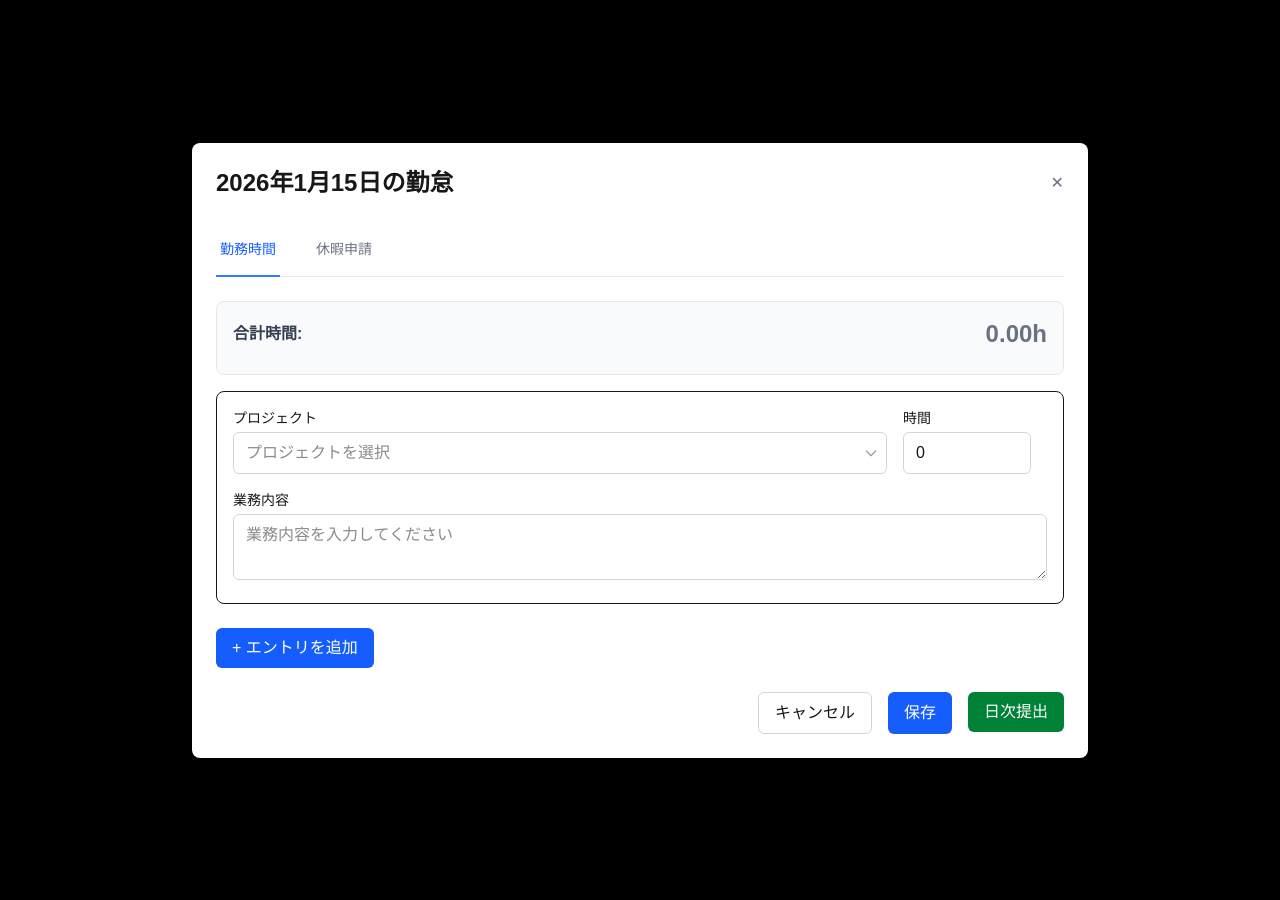
it: DailyEntryForm › Input Validation › should require project selection before saving
Type "8" into the number field labelled "時間" at (967, 452), box x1=903 y1=432 x2=1031 y2=474
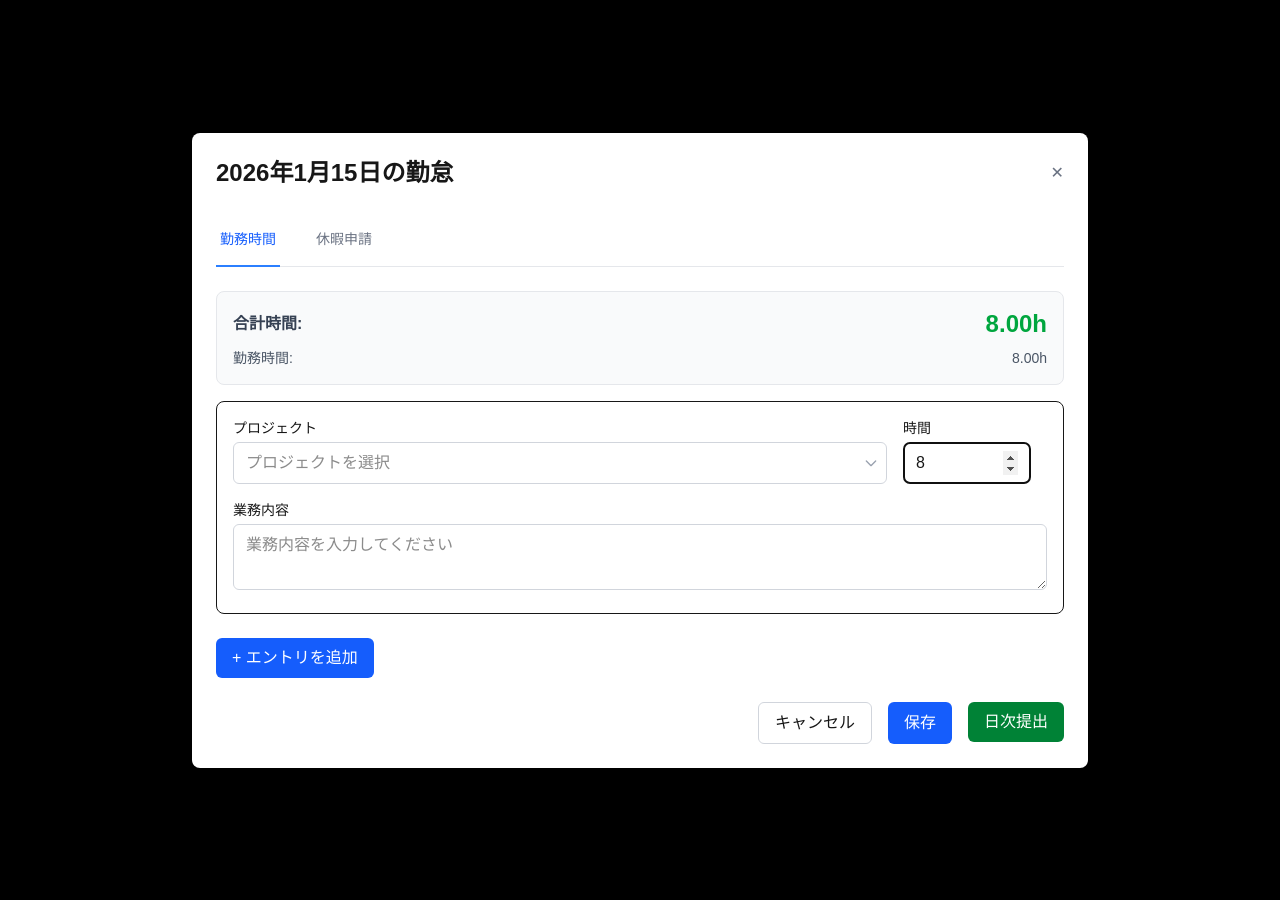
Click the button "保存" at (920, 722), box x1=888 y1=702 x2=952 y2=744
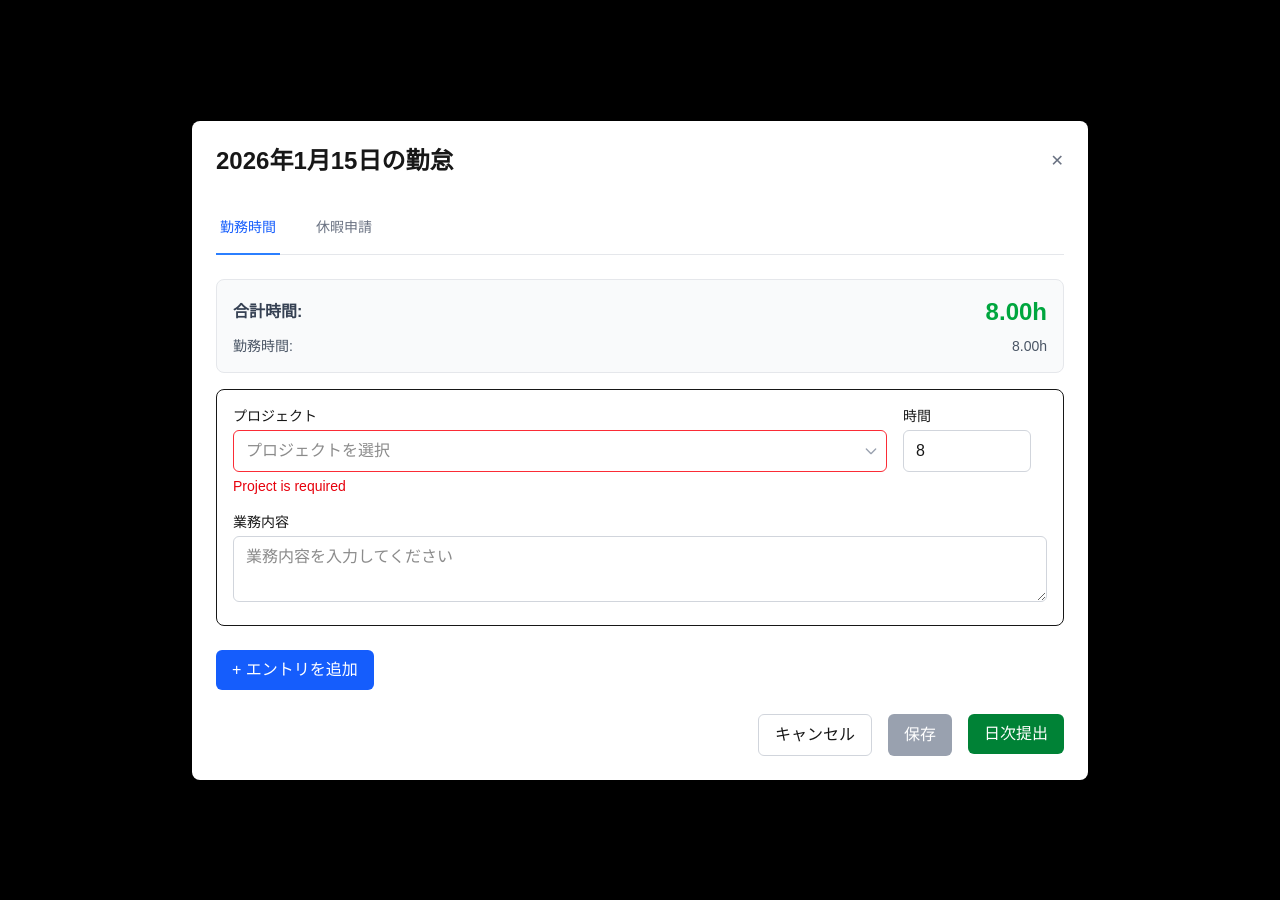
Expected: the text "Project is required" is shown, x1=233 y1=478 x2=346 y2=494
